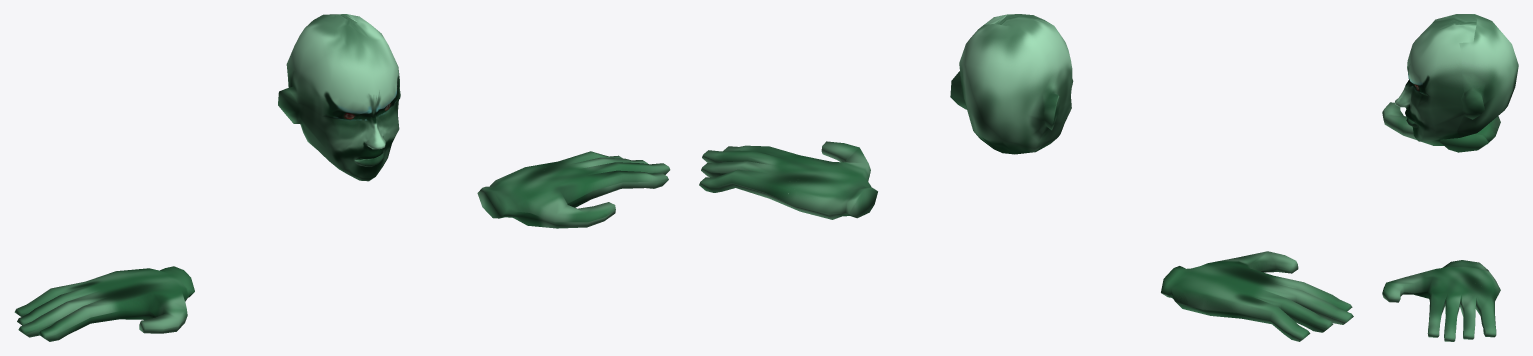
The model's file is fuck head.FBX.
The picture shows the model from 3 angles, left to right: view 1: azimuth 30°, elevation 25°; view 2: azimuth 150°, elevation 25°; view 3: azimuth 270°, elevation 25°; orthographic projection. The views are drawn at different scales.
Parts seen in each view (by area): view 1: Cylinder001; view 2: Cylinder001; view 3: Cylinder001.
Part boxes in pixels (x1,y1,x2,y2): Cylinder001: (14, 14, 670, 341); Cylinder001: (699, 14, 1353, 341); Cylinder001: (1382, 14, 1518, 341).
Size of the model in its own units: 100 by 35 by 21.32.
Materials: 1 (1 with a texture image).
